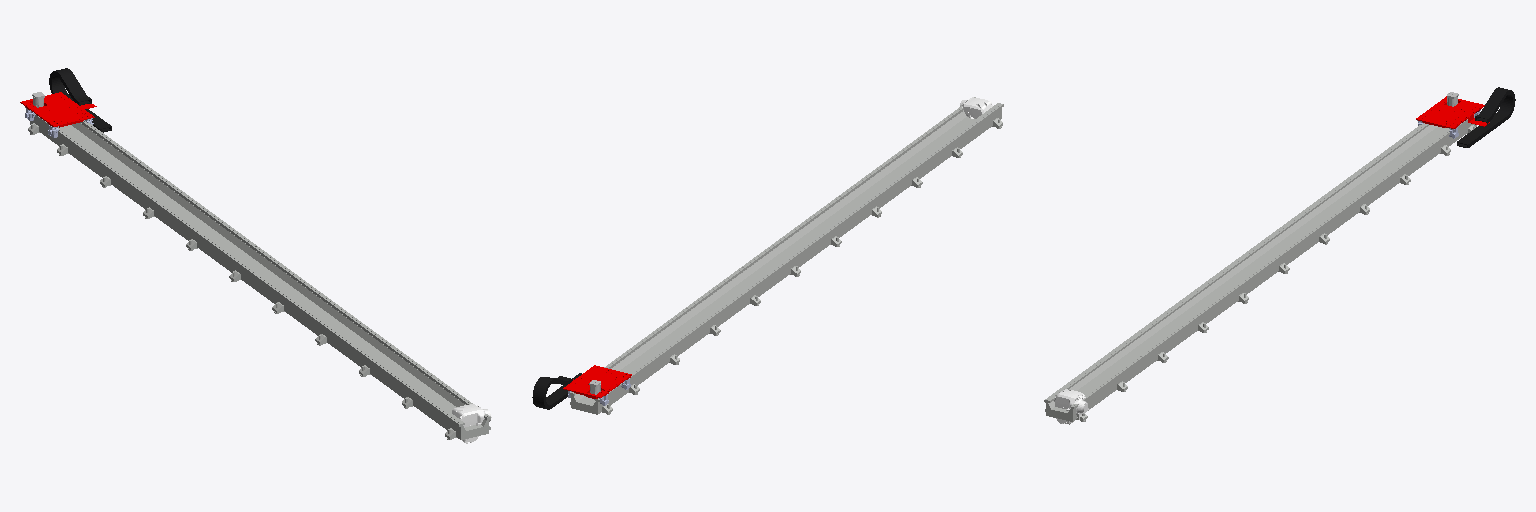
URDF robot description (gudel_tmf2_dual):
<?xml version="1.0" encoding="utf-8"?>
<!-- =================================================================================== -->
<!-- |    This document was autogenerated by xacro from gudel_tmf2_dual.xacro          | -->
<!-- |    EDITING THIS FILE BY HAND IS NOT RECOMMENDED                                 | -->
<!-- =================================================================================== -->
<robot name="gudel_tmf2_dual">
  <!-- link list -->
  <link name="base_link">
    <visual>
      <origin rpy="0 0 0" xyz="0 0 0"/>
      <geometry>
        <mesh filename="package://twc_support/CAD/rail/gudel_tmf2/urdf/visual/base_link.dae"/>
      </geometry>
    </visual>
    <collision>
      <origin rpy="0 0 0" xyz="0 0 0"/>
      <geometry>
        <mesh filename="package://twc_support/CAD/rail/gudel_tmf2/urdf/visual/base_link.dae"/>
      </geometry>
    </collision>
  </link>
  <link name="link_1">
    <visual>
      <origin rpy="0 0 0" xyz="0 0 0"/>
      <geometry>
        <mesh filename="package://twc_support/CAD/rail/gudel_tmf2/urdf/visual/link_1.dae"/>
      </geometry>
    </visual>
    <collision>
      <origin rpy="0 0 0" xyz="0 0 0"/>
      <geometry>
        <mesh filename="package://twc_support/CAD/rail/gudel_tmf2/urdf/visual/link_1.dae"/>
      </geometry>
    </collision>
  </link>
  <link name="link_2">
    <visual>
      <origin rpy="0 0 0" xyz="0 0 0"/>
      <geometry>
        <mesh filename="package://twc_support/CAD/rail/gudel_tmf2/urdf/visual/link_2.dae"/>
      </geometry>
    </visual>
    <collision>
      <origin rpy="0 0 0" xyz="0 0 0"/>
      <geometry>
        <mesh filename="package://twc_support/CAD/rail/gudel_tmf2/urdf/visual/link_2.dae"/>
      </geometry>
    </collision>
  </link>
  <link name="link_3">
    <visual>
      <origin rpy="0 0 0" xyz="0 0 0"/>
      <geometry>
        <mesh filename="package://twc_support/CAD/rail/gudel_tmf2/urdf/visual/link_3.dae"/>
      </geometry>
    </visual>
    <collision>
      <origin rpy="0 0 0" xyz="0 0 0"/>
      <geometry>
        <mesh filename="package://twc_support/CAD/rail/gudel_tmf2/urdf/visual/link_3.dae"/>
      </geometry>
    </collision>
  </link>
  <link name="tool0"/>
  <link name="tool1"/>
  <!-- end of link list -->
  <!-- joint list -->
  <joint name="cable_tray_joint" type="fixed">
    <origin rpy="0 0 0" xyz="0 0 0"/>
    <parent link="base_link"/>
    <child link="link_3"/>
  </joint>
  <joint name="joint_1" type="prismatic">
    <origin rpy="0 0 0" xyz="0 0 0"/>
    <parent link="base_link"/>
    <child link="link_1"/>
    <axis xyz="0 1 0"/>
    <limit effort="0" lower="0" upper="10" velocity="2.5"/>
  </joint>
  <joint name="joint_2" type="prismatic">
    <origin rpy="0 0 0" xyz="0 0 0"/>
    <parent link="base_link"/>
    <child link="link_2"/>
    <axis xyz="0 -1 0"/>
    <limit effort="0" lower="0" upper="10" velocity="2.5"/>
  </joint>
  <joint name="joint_1_tool0" type="fixed">
    <origin rpy="0 0 0" xyz="0.125 0 0.340"/>
    <parent link="link_1"/>
    <child link="tool0"/>
  </joint>
  <joint name="joint_2_tool1" type="fixed">
    <origin rpy="0 0 0" xyz="2.475 0 0.340"/>
    <parent link="link_2"/>
    <child link="tool1"/>
  </joint>
  <!-- end of joint list -->
</robot>

--- Facts derived from the render (not from the file) ---
The picture shows the robot from 3 angles, left to right: view 1: azimuth 30°, elevation 25°; view 2: azimuth 150°, elevation 25°; view 3: azimuth 330°, elevation 25°; orthographic projection.
Robot: gudel_tmf2_dual — 6 links, 5 joints (2 prismatic, 3 fixed); root link base_link; default pose: all joints at 0.
Visible links, largest first — view 1: base_link, link_2, link_3; view 2: base_link, link_2; view 3: base_link, link_2, link_3.
Boxes of the visible links, box(x1,y1,x2,y2) form: base_link: box(28, 114, 490, 439); link_2: box(20, 68, 111, 138); link_3: box(452, 404, 491, 443); base_link: box(570, 97, 1003, 414); link_2: box(532, 365, 631, 409); base_link: box(1044, 119, 1476, 421); link_2: box(1416, 87, 1515, 147); link_3: box(1054, 389, 1089, 424).
Bounding box of the posed robot: 0.9377 × 12.53 × 0.6843 m (x, y, z).
Meshes: 4 distinct files referenced, 3 mesh visuals loaded (3 Collada DAE); not drawn: 1 (reference not matched to a file when rendering).
